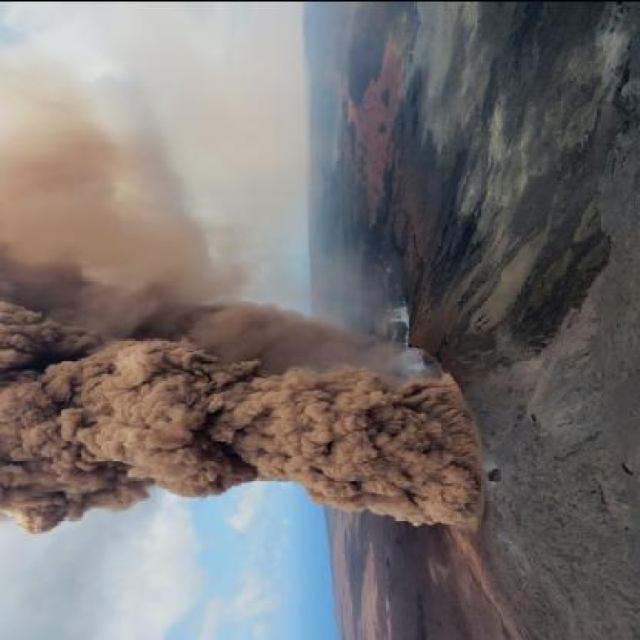Smoke: (0, 30, 483, 535)
